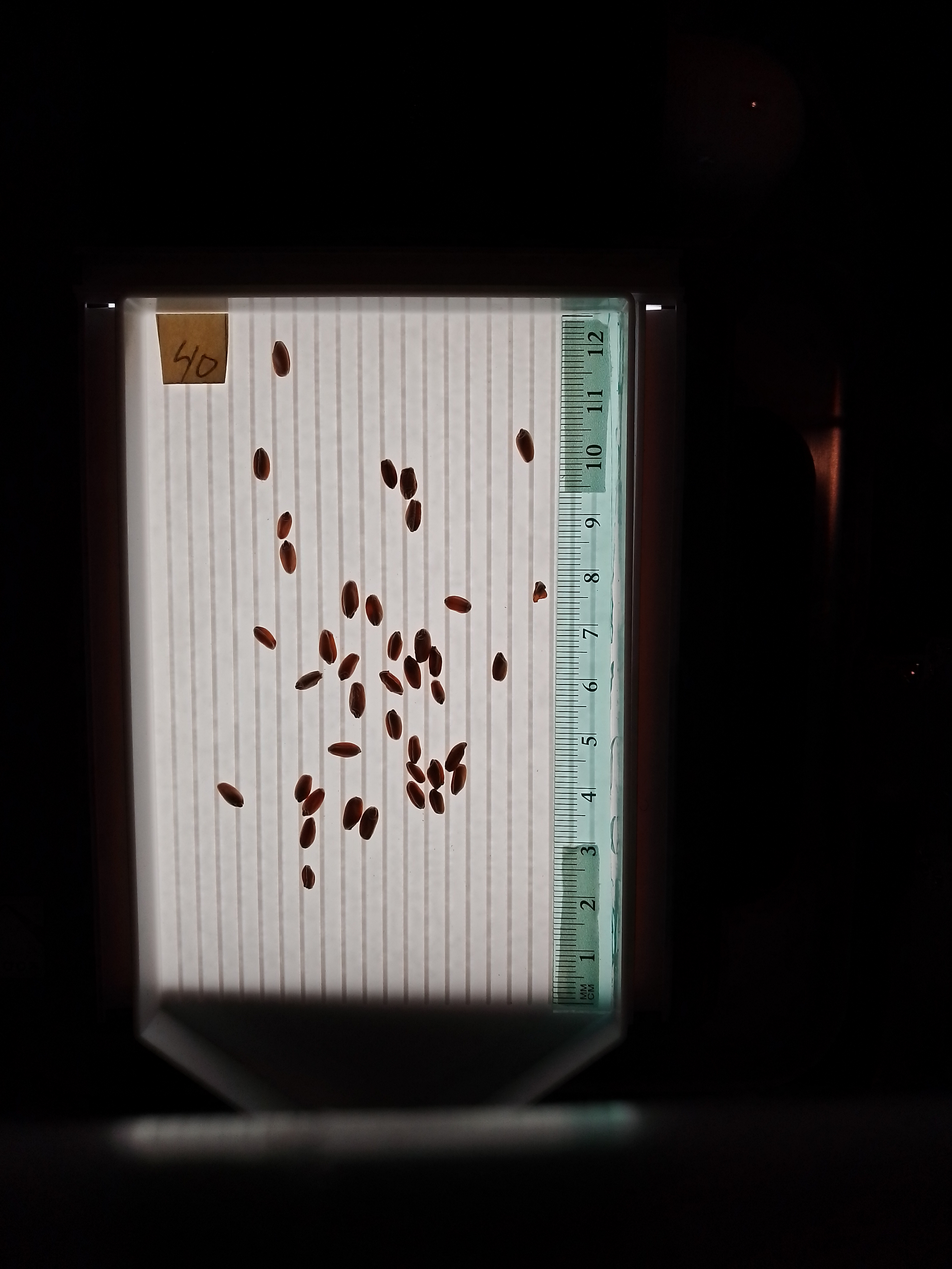seed mask: (272, 341, 290, 377), (359, 807, 379, 839), (343, 798, 363, 829), (342, 582, 359, 618), (516, 429, 534, 463), (218, 783, 243, 807), (446, 743, 466, 772), (414, 629, 431, 663), (320, 631, 337, 664), (365, 595, 383, 626), (427, 759, 445, 790), (302, 790, 324, 815), (400, 467, 417, 499), (253, 449, 270, 480), (405, 501, 422, 532), (404, 657, 421, 688), (280, 541, 296, 573), (328, 742, 360, 758), (339, 654, 359, 679), (380, 672, 402, 694), (296, 671, 321, 690), (294, 775, 312, 801), (350, 685, 365, 716), (386, 711, 402, 740), (254, 627, 275, 649), (446, 596, 471, 614), (300, 819, 315, 849), (381, 460, 397, 488), (451, 765, 467, 793), (407, 783, 424, 809), (276, 512, 292, 539), (428, 648, 443, 676), (492, 654, 507, 681), (388, 633, 402, 659), (430, 790, 445, 813), (408, 736, 421, 762), (408, 763, 424, 784), (431, 681, 445, 704), (302, 866, 315, 888)
